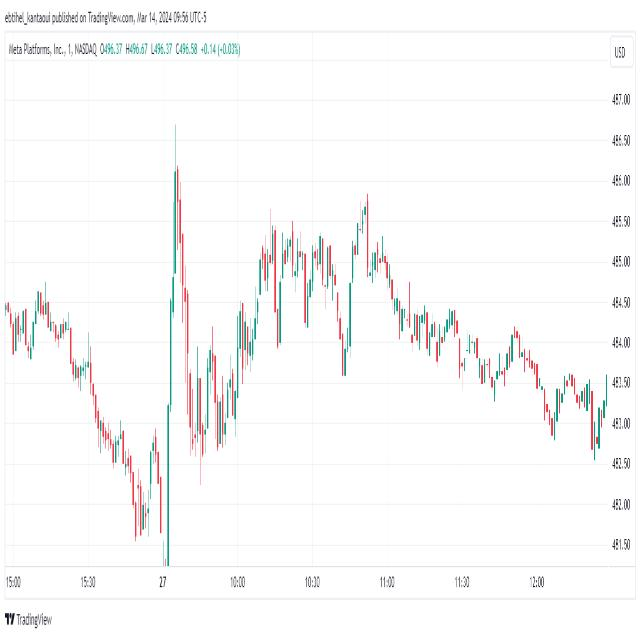Triple-Top: (251, 206, 344, 344)
